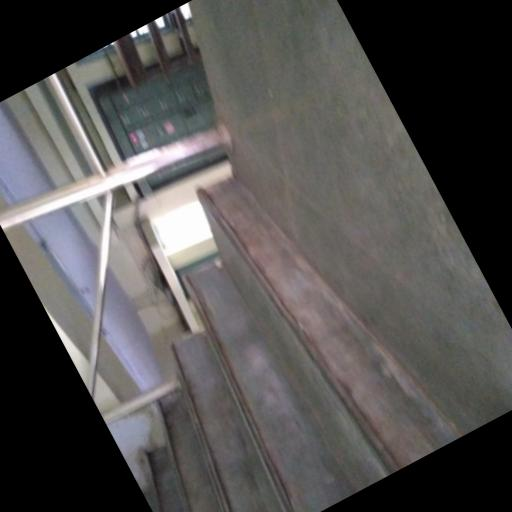stairs: (147, 181, 458, 511)
